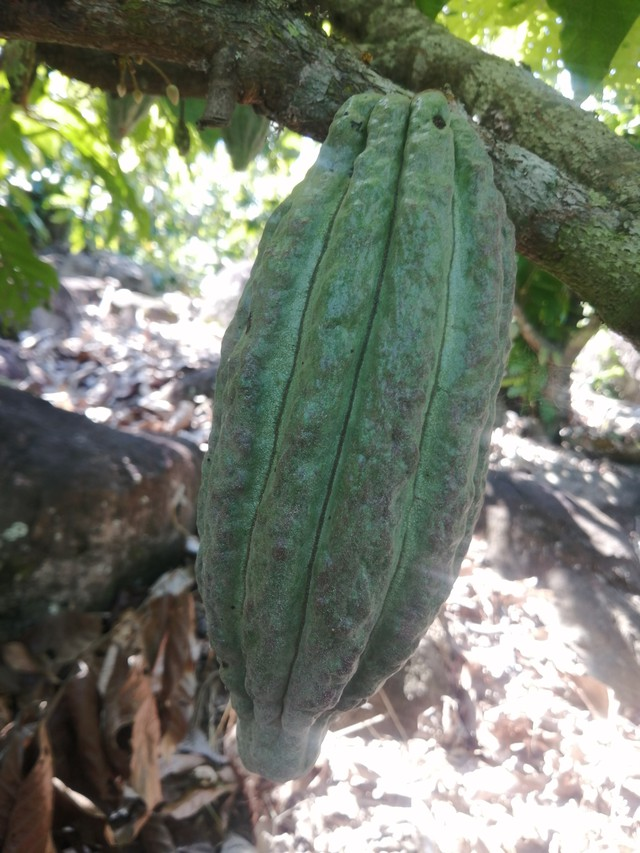Health: (169, 70, 535, 801)
